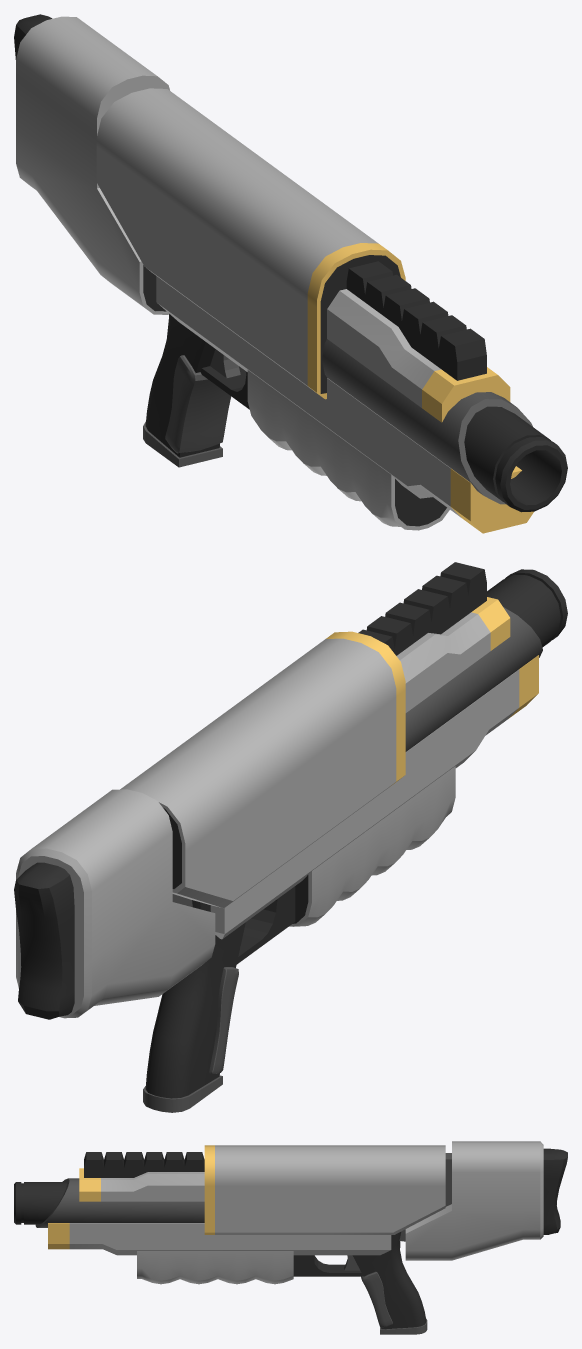
Rendered from flak.glb.
The picture shows the model from 3 angles, top to bottom: view 1: azimuth 30°, elevation 25°; view 2: azimuth 150°, elevation 25°; view 3: azimuth 270°, elevation 25°; orthographic projection. The views are drawn at different scales.
Parts seen in each view (by area): view 1: Cube.047; view 2: Cube.047; view 3: Cube.047.
Part boxes in pixels (x1,y1,x2,y2): Cube.047: (14,14,567,533); Cube.047: (14,562,567,1112); Cube.047: (14,1141,567,1334).
Bounding box in the file's own units: 0.0857 × 0.3108 × 0.85.
